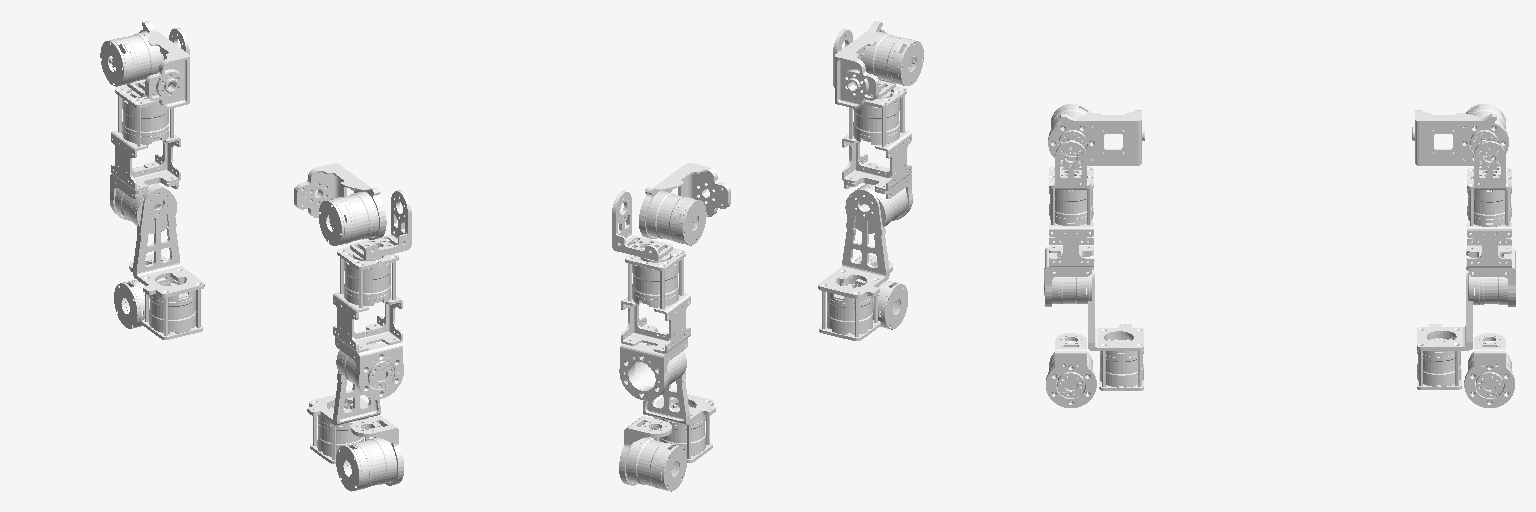
URDF robot description (biped_v3):
<?xml version='1.0' encoding='UTF-8'?>
<!-- This URDF was automatically created by SolidWorks to URDF Exporter! Originally created by [author] ([email redacted]) 
     Commit Version: 1.6.0-4-g7f85cfe  Build Version: 1.6.7995.38578
     For more information, please see http://wiki.ros.org/sw_urdf_exporter -->
<robot name="biped_v3">
  <link name="torso">
    <inertial>
      <origin xyz="-0.00699293960383802 0.00155633220268026 0.152865943474551" rpy="0 0 0"/>
      <mass value="7.71324827879796"/>
      <inertia ixx="0.0426865291658434" ixy="1.85724164379468E-06" ixz="0.0010941107421191" iyy="0.020412125396821" iyz="-3.14875771284261E-06" izz="0.0372747742844986"/>
    </inertial>
    <visual>
      <origin xyz="0 0 0" rpy="0 0 0"/>
      <geometry>
        <mesh filename="../meshes/base_link.obj"/>
      </geometry>
      <material name="">
        <color rgba="0.862745098039216 0.933333333333333 0.929411764705882 1"/>
      </material>
    </visual>
  </link>

  <!-- left arm -->
  <link name="l_arm_pitch">
    <inertial>
      <origin xyz="0.0214306014937492 0.0894803474436048 0.000615912525740503" rpy="0 0 0"/>
      <mass value="0.1942"/>
      <inertia ixx="0.000130680980046145" ixy="-2.8051476508872E-05" ixz="-4.43154983770371E-08" iyy="6.72732423481097E-05" iyz="-1.04235209424077E-06" izz="0.000113833719965484"/>
    </inertial>
    <visual>
      <origin xyz="0 0 0" rpy="0 0 0"/>
      <geometry>
        <mesh filename="../meshes/l_arm_pitch.obj"/>
      </geometry>
      <material name="">
        <color rgba="1 1 1 1"/>
      </material>
    </visual>
  </link>
  <joint name="l_arm_pitch" type="continuous">
    <origin xyz="-0.0174998525199999 0.121 0.3145" rpy="0 0 0"/>
    <parent link="torso"/>
    <child link="l_arm_pitch"/>
    <axis xyz="0 1 0"/>
  </joint>
  <transmission type="SimpleTransmission">
    <joint name="l_arm_pitch"/>
    <actuator name="l_arm_pitch_motor"/>
  </transmission>

  <link name="l_arm_roll">
    <inertial>
      <origin xyz="-0.035737115963316 0.000637394005623571 -0.00293587457508399" rpy="0 0 0"/>
      <mass value="0.8168"/>
      <inertia ixx="0.000128360157970662" ixy="6.10295766830323E-06" ixz="-1.04763903813656E-05" iyy="0.000190119380770336" iyz="1.1072652385836E-06" izz="0.000178903820792462"/>
    </inertial>
    <visual>
      <origin xyz="0 0 0" rpy="0 0 0"/>
      <geometry>
        <mesh filename="../meshes/l_arm_roll.obj"/>
      </geometry>
      <material name="">
        <color rgba="1 1 1 1"/>
      </material>
    </visual>
  </link>
  <joint name="l_arm_roll" type="continuous">
    <origin xyz="0.0638750000000005 0.143475 0" rpy="0 0 0"/>
    <parent link="l_arm_pitch"/>
    <child link="l_arm_roll"/>
    <axis xyz="1 0 0"/>
  </joint>
  <transmission type="SimpleTransmission">
    <joint name="l_arm_roll"/>
    <actuator name="l_arm_roll_motor"/>
  </transmission>

  <link name="l_arm_yaw">
    <inertial>
      <origin xyz="-0.000196754553523828 -0.00200221985054488 -0.0822363960198868" rpy="0 0 0"/>
      <mass value="0.710"/>
      <inertia ixx="7.15763821808342E-05" ixy="-7.20357840527445E-07" ixz="1.2879634524044E-07" iyy="0.000116064001916274" iyz="-3.24539663479111E-06" izz="0.000102450224641922"/>
    </inertial>
    <visual>
      <origin xyz="0 0 0" rpy="0 0 0"/>
      <geometry>
        <mesh filename="../meshes/l_arm_yaw.obj"/>
      </geometry>
      <material name="">
        <color rgba="1 1 1 1"/>
      </material>
    </visual>
  </link>
  <joint name="l_arm_yaw" type="continuous">
    <origin xyz="-0.0436732904500001 -0.000228544867618807 -0.0507499999999994" rpy="0 0 0"/>
    <parent link="l_arm_roll"/>
    <child link="l_arm_yaw"/>
    <axis xyz="0 0.0045033014816499 0.999989860086474"/>
  </joint>
  <transmission type="SimpleTransmission">
    <joint name="l_arm_yaw"/>
    <actuator name="l_arm_yaw_motor"/>
  </transmission>

  <link name="l_forearm_pitch">
    <inertial>
      <origin xyz="-1.76621857590764E-09 0.0247675246684128 -0.070263864959373" rpy="0 0 0"/>
      <mass value="0.100717925891199"/>
      <inertia ixx="6.81753177964767E-05" ixy="-1.3166203212202E-12" ixz="-2.01946859234465E-12" iyy="6.38358674774755E-05" iyz="1.22265699624491E-05" izz="7.39768830554407E-05"/>
    </inertial>
    <visual>
      <origin xyz="0 0 0" rpy="0 0 0"/>
      <geometry>
        <mesh filename="../meshes/l_forearm_pitch.obj"/>
      </geometry>
      <material name="">
        <color rgba="1 1 1 1"/>
      </material>
    </visual>
  </link>
  <joint name="l_forearm_pitch" type="continuous">
    <origin xyz="0 -0.0300214551323814 -0.1357" rpy="0 0 0"/>
    <parent link="l_arm_yaw"/>
    <child link="l_forearm_pitch"/>
    <axis xyz="0 1 0"/>
  </joint>
  <transmission type="SimpleTransmission">
    <joint name="l_forearm_pitch"/>
    <actuator name="l_forearm_pitch_motor"/>
  </transmission>

  <link name="l_forearm_yaw">
    <inertial>
      <origin xyz="-0.00399570091504528 2.98471488309193E-05 -0.0656133809823523" rpy="0 0 0"/>
      <mass value="0.413"/>
      <inertia ixx="7.01872239868571E-05" ixy="-1.62696734264376E-07" ixz="-4.54392258182991E-07" iyy="7.29165229929418E-05" iyz="-7.2325873682261E-09" izz="6.87979464480365E-05"/>
    </inertial>
    <visual>
      <origin xyz="0 0 0" rpy="0 0 0"/>
      <geometry>
        <mesh filename="../meshes/l_forearm_yaw.obj"/>
      </geometry>
      <material name="">
        <color rgba="1 1 1 1"/>
      </material>
    </visual>
  </link>
  <joint name="l_forearm_yaw" type="continuous">
    <origin xyz="0 0.0302500000000002 -0.0915499999999999" rpy="0 0 0"/>
    <parent link="l_forearm_pitch"/>
    <child link="l_forearm_yaw"/>
    <axis xyz="0 0 1"/>
  </joint>
  <transmission type="SimpleTransmission">
    <joint name="l_forearm_yaw"/>
    <actuator name="l_forearm_yaw_motor"/>
  </transmission>

  <link name="l_hand_roll">
    <inertial>
      <origin xyz="0.0166010838376317 1.21699082866744E-07 1.73724289204147E-07" rpy="0 0 0"/>
      <mass value="0.0071"/>
      <inertia ixx="1.93486939049626E-07" ixy="1.34751407910019E-12" ixz="-9.12379114183907E-13" iyy="1.3659940311531E-07" iyz="2.34311788925342E-12" izz="3.17250990444323E-07"/>
    </inertial>
    <visual>
      <origin xyz="0 0 0" rpy="0 0 0"/>
      <geometry>
        <mesh filename="../meshes/l_hand_roll.obj"/>
      </geometry>
      <material name="">
        <color rgba="1 1 1 1"/>
      </material>
    </visual>
  </link>
  <joint name="l_hand_roll" type="continuous">
    <origin xyz="-0.025322 0 -0.1575" rpy="0 0 0"/>
    <parent link="l_forearm_yaw"/>
    <child link="l_hand_roll"/>
    <axis xyz="1 0 0"/>
  </joint>
  <transmission type="SimpleTransmission">
    <joint name="l_hand_roll"/>
    <actuator name="l_hand_roll_motor"/>
  </transmission>
  <link name="l_hand_pitch">
    <inertial>
      <origin xyz="0.00216452934621551 -6.77719551251399E-05 -0.0859772405742664" rpy="0 0 0"/>
      <mass value="0.774"/>
      <inertia ixx="1.140633456061E-05" ixy="-1.76559662166693E-10" ixz="2.91544414425806E-07" iyy="1.10990606835989E-05" iyz="-7.83300192322812E-10" izz="8.19218367742265E-06"/>
    </inertial>
    <visual>
      <origin xyz="0 0 0" rpy="0 0 0"/>
      <geometry>
        <mesh filename="../meshes/l_hand_pitch.obj"/>
      </geometry>
      <material name="">
        <color rgba="1 1 1 1"/>
      </material>
    </visual>
  </link>
  <joint name="l_hand_pitch" type="continuous">
    <origin xyz="0.02137 0 0" rpy="0 0 0"/>
    <parent link="l_hand_roll"/>
    <child link="l_hand_pitch"/>
    <axis xyz="0 1 0"/>
  </joint>
  <transmission type="SimpleTransmission">
    <joint name="l_hand_pitch"/>
    <actuator name="l_hand_pitch_motor"/>
  </transmission>

  <!-- right arm -->
  <link name="r_arm_pitch">
    <inertial>
      <origin xyz="0.0214306041026405 -0.0844803465442086 0.00061581470811356" rpy="0 0 0"/>
      <mass value="0.1942"/>
      <inertia ixx="0.000130680921242486" ixy="2.80514667713823E-05" ixz="-4.43612197682304E-08" iyy="6.72732085095452E-05" iyz="1.04250551958736E-06" izz="0.000113833677598239"/>
    </inertial>
    <visual>
      <origin xyz="0 0 0" rpy="0 0 0"/>
      <geometry>
        <mesh filename="../meshes/r_arm_pitch.obj"/>
      </geometry>
      <material name="">
        <color rgba="1 1 1 1"/>
      </material>
    </visual>
  </link>
  <joint name="r_arm_pitch" type="continuous">
    <origin xyz="-0.0174998525199999 -0.126 0.3145" rpy="0 0 0"/>
    <parent link="torso"/>
    <child link="r_arm_pitch"/>
    <axis xyz="0 1 0"/>
  </joint>
  <transmission type="SimpleTransmission">
    <joint name="r_arm_pitch"/>
    <actuator name="r_arm_pitch_motor"/>
  </transmission>

  <link name="r_arm_roll">
    <inertial>
      <origin xyz="-0.0357371168973825 -0.000637394797891544 -0.00293587513361748" rpy="0 0 0"/>
      <mass value="0.8168"/>
      <inertia ixx="0.000128360143073782" ixy="-6.10295800980191E-06" ixz="-1.0476390047817E-05" iyy="0.000190119367974024" iyz="-1.10726166060552E-06" izz="0.000178903821203388"/>
    </inertial>
    <visual>
      <origin xyz="0 0 0" rpy="0 0 0"/>
      <geometry>
        <mesh filename="../meshes/r_arm_roll.obj"/>
      </geometry>
      <material name="">
        <color rgba="1 1 1 1"/>
      </material>
    </visual>
  </link>
  <joint name="r_arm_roll" type="continuous">
    <origin xyz="0.0638750000000006 -0.138475 0" rpy="0 0 0"/>
    <parent link="r_arm_pitch"/>
    <child link="r_arm_roll"/>
    <axis xyz="1 0 0"/>
  </joint>
  <transmission type="SimpleTransmission">
    <joint name="r_arm_roll"/>
    <actuator name="r_arm_roll_motor"/>
  </transmission>

  <link name="r_arm_yaw">
    <inertial>
      <origin xyz="-0.000194980244391281 0.00223075394549077 -0.0832363148203375" rpy="0 0 0"/>
      <mass value="0.710"/>
      <inertia ixx="7.15747672025054E-05" ixy="7.20299540431296E-07" ixz="1.30045936565256E-07" iyy="0.00011606243891087" iyz="3.24540546737595E-06" izz="0.000102450220317482"/>
    </inertial>
    <visual>
      <origin xyz="0 0 0" rpy="0 0 0"/>
      <geometry>
        <mesh filename="../meshes/r_arm_yaw.obj"/>
      </geometry>
      <material name="">
        <color rgba="1 1 1 1"/>
      </material>
    </visual>
  </link>
  <joint name="r_arm_yaw" type="continuous">
    <origin xyz="-0.0436749999999998 0 -0.0497499999999998" rpy="0 0 0"/>
    <parent link="r_arm_roll"/>
    <child link="r_arm_yaw"/>
    <axis xyz="0 0 1"/>
  </joint>
  <transmission type="SimpleTransmission">
    <joint name="r_arm_yaw"/>
    <actuator name="r_arm_yaw_motor"/>
  </transmission>

  <link name="r_forearm_pitch">
    <inertial>
      <origin xyz="7.1803206297405E-09 -0.0235362732742576 -0.0656063288648233" rpy="0 0 0"/>
      <mass value="0.100"/>
      <inertia ixx="6.24507314646795E-05" ixy="-6.49100177668853E-12" ixz="3.722894079977E-12" iyy="5.81112784382459E-05" iyz="-1.22265695808957E-05" izz="6.2829761531135E-05"/>
    </inertial>
    <visual>
      <origin xyz="0 0 0" rpy="0 0 0"/>
      <geometry>
        <mesh filename="../meshes/r_forearm_pitch.obj"/>
      </geometry>
      <material name="">
        <color rgba="1 1 1 1"/>
      </material>
    </visual>
  </link>
  <joint name="r_forearm_pitch" type="continuous">
    <origin xyz="0 0.0302500000000003 -0.1377" rpy="0 0 0"/>
    <parent link="r_arm_yaw"/>
    <child link="r_forearm_pitch"/>
    <axis xyz="0 1 0"/>
  </joint>
  <transmission type="SimpleTransmission">
    <joint name="r_forearm_pitch"/>
    <actuator name="r_forearm_pitch_motor"/>
  </transmission>

  <link name="r_forearm_yaw">
    <inertial>
      <origin xyz="-0.00399571587295026 -2.98574044384492E-05 -0.0656134416270269" rpy="0 0 0"/>
      <mass value="0.413"/>
      <inertia ixx="7.01871005830262E-05" ixy="1.62591814390724E-07" ixz="-4.54374332575993E-07" iyy="7.29165016216887E-05" iyz="7.3578843890099E-09" izz="6.87978478315219E-05"/>
    </inertial>
    <visual>
      <origin xyz="0 0 0" rpy="0 0 0"/>
      <geometry>
        <mesh filename="../meshes/r_forearm_yaw.obj"/>
      </geometry>
      <material name="">
        <color rgba="1 1 1 1"/>
      </material>
    </visual>
  </link>
  <joint name="r_forearm_yaw" type="continuous">
    <origin xyz="0 -0.0302500000000002 -0.0905499999999999" rpy="0 0 0"/>
    <parent link="r_forearm_pitch"/>
    <child link="r_forearm_yaw"/>
    <axis xyz="0 0 1"/>
  </joint>
  <transmission type="SimpleTransmission">
    <joint name="r_forearm_yaw"/>
    <actuator name="r_forearm_yaw_motor"/>
  </transmission>

  <link name="r_hand_roll">
    <inertial>
      <origin xyz="0.0166010838484253 -1.21914575379467E-07 -1.70258151493963E-07" rpy="0 0 0"/>
      <mass value="0.0071"/>
      <inertia ixx="1.93486938959377E-07" ixy="-1.35418412773771E-12" ixz="9.16670576988079E-13" iyy="1.36599402900294E-07" iyz="2.34295717847431E-12" izz="3.17250989285096E-07"/>
    </inertial>
    <visual>
      <origin xyz="0 0 0" rpy="0 0 0"/>
      <geometry>
        <mesh filename="../meshes/r_hand_roll.obj"/>
      </geometry>
      <material name="">
        <color rgba="1 1 1 1"/>
      </material>
    </visual>
  </link>
  <joint name="r_hand_roll" type="continuous">
    <origin xyz="-0.025322 0 -0.1575" rpy="0 0 0"/>
    <parent link="r_forearm_yaw"/>
    <child link="r_hand_roll"/>
    <axis xyz="1 0 0"/>
  </joint>
  <transmission type="SimpleTransmission">
    <joint name="r_hand_roll"/>
    <actuator name="r_hand_roll_motor"/>
  </transmission>

  <link name="r_hand_pitch">
    <inertial>
      <origin xyz="0.00214702310217297 -7.83584216464961E-05 -0.0852818706514631" rpy="0 0 0"/>
      <mass value="0.774"/>
      <inertia ixx="1.14121247582596E-05" ixy="1.76471512895622E-10" ixz="2.91544422581543E-07" iyy="1.11095803968485E-05" iyz="7.83308829804773E-10" izz="8.19797394000677E-06"/>
    </inertial>
    <visual>
      <origin xyz="0 0 0" rpy="0 0 0"/>
      <geometry>
        <mesh filename="../meshes/r_hand_pitch.obj"/>
      </geometry>
      <material name="">
        <color rgba="1 1 1 1"/>
      </material>
    </visual>
  </link>
  <joint name="r_hand_pitch" type="continuous">
    <origin xyz="0.02137 0 0" rpy="0 0 0"/>
    <parent link="r_hand_roll"/>
    <child link="r_hand_pitch"/>
    <axis xyz="0 1 0"/>
  </joint>
  <transmission type="SimpleTransmission">
    <joint name="r_hand_pitch"/>
    <actuator name="r_hand_pitch_motor"/>
  </transmission>

</robot>

--- Render facts (derived) ---
Views: 3 orthographic renders of the robot side by side, from view 1: azimuth 30°, elevation 25°; view 2: azimuth 150°, elevation 25°; view 3: azimuth 270°, elevation 25°.
Model biped_v3 with 15 links and 14 joints (14 continuous), rooted at torso, posed every joint at zero.
Visible links, largest first — view 1: r_arm_yaw, l_arm_yaw, l_forearm_pitch, r_arm_pitch, l_arm_pitch, r_forearm_yaw, r_forearm_pitch, r_arm_roll, l_forearm_yaw; view 2: l_arm_yaw, r_arm_yaw, r_forearm_pitch, l_arm_pitch, r_arm_pitch, l_forearm_yaw, l_forearm_pitch, l_arm_roll, r_forearm_yaw, r_arm_roll; view 3: l_arm_yaw, r_arm_yaw, l_arm_pitch, r_arm_pitch, r_forearm_pitch, l_forearm_pitch, r_forearm_yaw, l_forearm_yaw, r_arm_roll, l_arm_roll.
Boxes of the visible links, x1,y1,x2,y2 form: r_arm_yaw: (333, 247, 403, 399); l_arm_yaw: (110, 85, 180, 233); l_forearm_pitch: (133, 185, 204, 339); r_arm_pitch: (294, 163, 386, 245); l_arm_pitch: (100, 21, 189, 108); r_forearm_yaw: (336, 416, 403, 491); r_forearm_pitch: (307, 371, 380, 463); r_arm_roll: (350, 190, 411, 259); l_forearm_yaw: (114, 254, 166, 328); l_arm_yaw: (619, 248, 690, 400); r_arm_yaw: (842, 86, 912, 233); r_forearm_pitch: (818, 187, 889, 340); l_arm_pitch: (639, 163, 730, 245); r_arm_pitch: (835, 21, 923, 108); l_forearm_yaw: (619, 416, 686, 491); l_forearm_pitch: (643, 333, 715, 462); l_arm_roll: (612, 191, 672, 260); r_forearm_yaw: (855, 255, 907, 329); r_arm_roll: (833, 29, 895, 98); l_arm_yaw: (1466, 168, 1515, 306); r_arm_yaw: (1044, 167, 1093, 306); l_arm_pitch: (1412, 104, 1508, 165); r_arm_pitch: (1048, 104, 1144, 165); r_forearm_pitch: (1088, 259, 1143, 390); l_forearm_pitch: (1417, 258, 1472, 389); r_forearm_yaw: (1046, 333, 1096, 407); l_forearm_yaw: (1464, 333, 1514, 407); r_arm_roll: (1055, 141, 1086, 189); l_arm_roll: (1474, 141, 1505, 189).
Bounding box of the posed robot: 0.0991 × 0.5952 × 0.3962 m (x, y, z).
10 mesh visuals loaded from 15 distinct referenced files (10 OBJ); not drawn: 5 (reference not matched to a file when rendering).